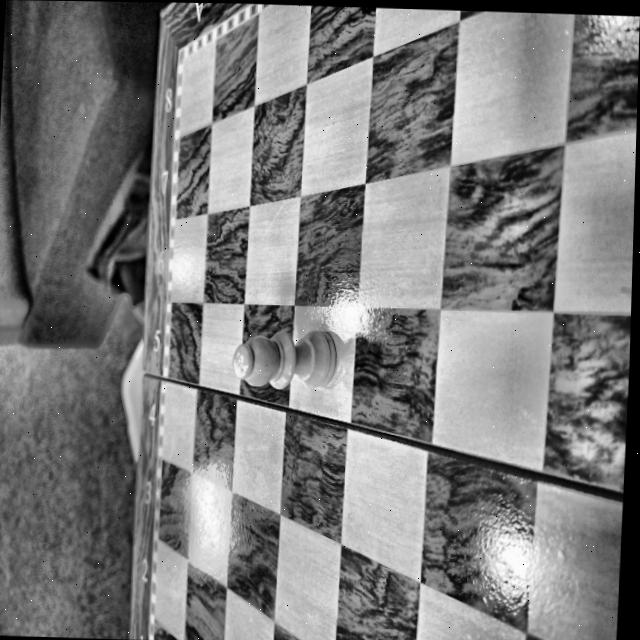white-bishop: (232, 329, 336, 389)
